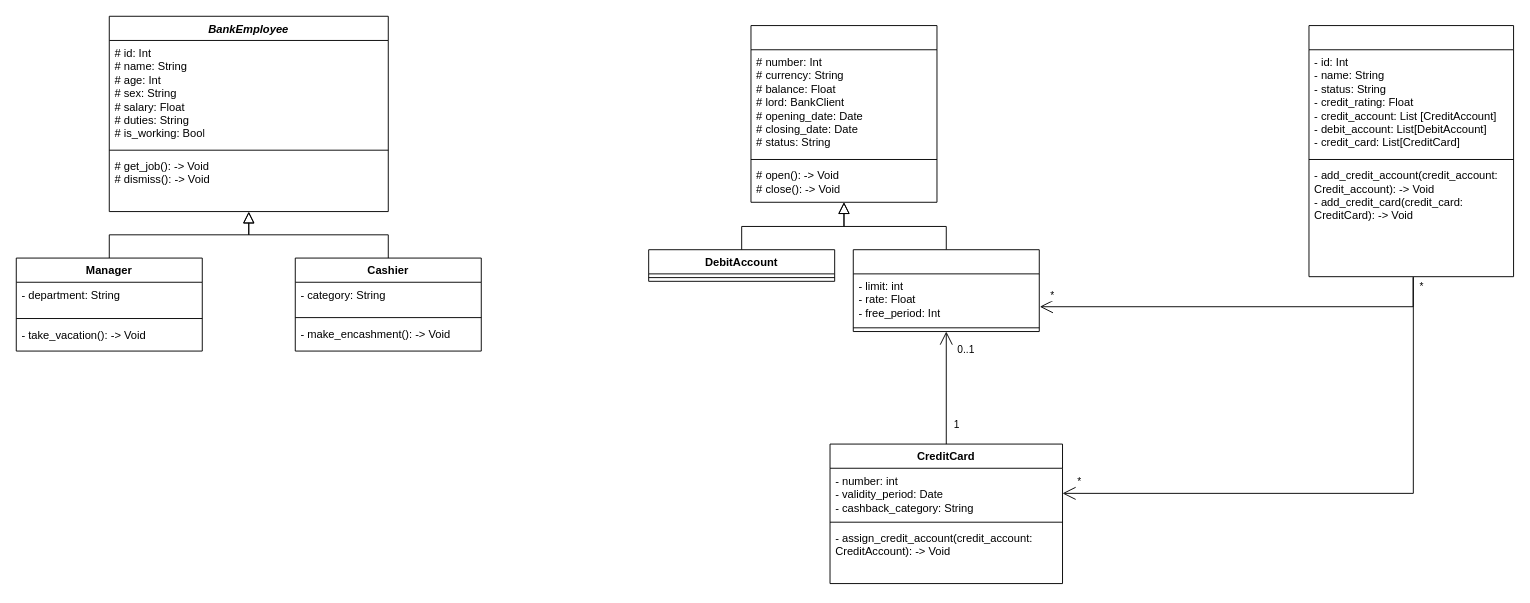
The diagram is 1530 pixels wide and 603 high, and some of its shapes have lost their labels. Each missing label, with the box of its shape:
Account: (750, 25, 937, 202)
BankClient: (1308, 25, 1514, 277)
CreditAccount: (852, 249, 1039, 332)
